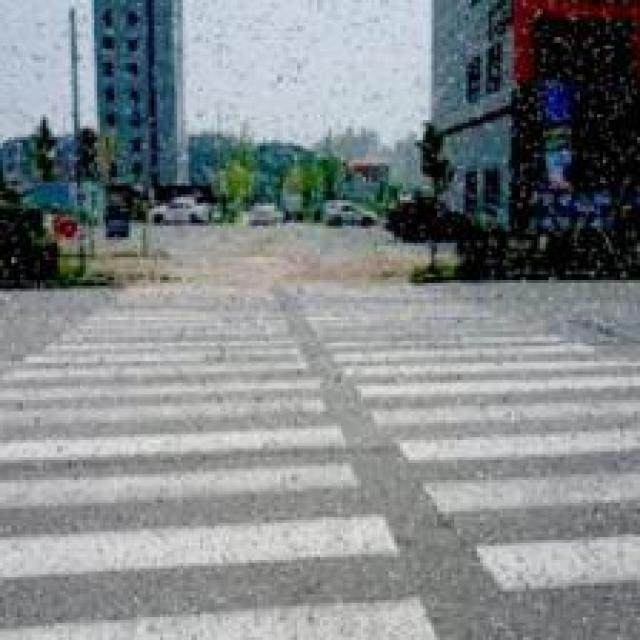walk-crossing: (0, 283, 637, 637)
